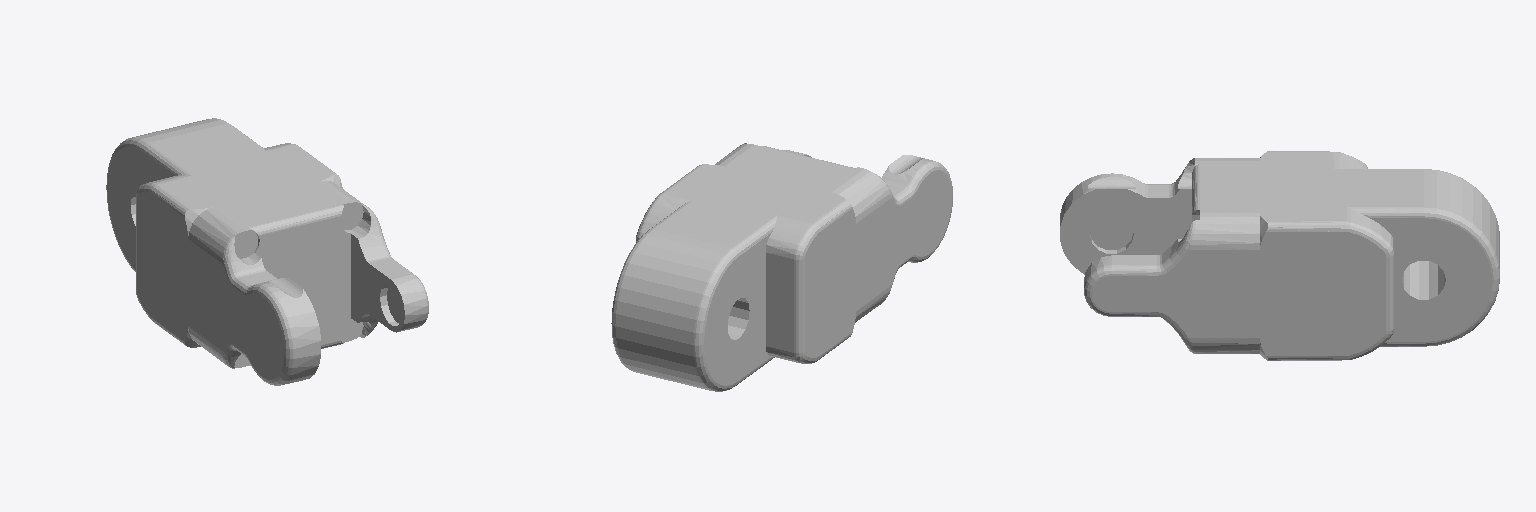
File: tesollo_left_ll_dg_1_3_visuals_ll_dg_1_3_mesh.obj
3 views of the same model, side by side, from view 1: azimuth 30°, elevation 25°; view 2: azimuth 150°, elevation 25°; view 3: azimuth 270°, elevation 25° (orthographic).
Bounding box in the file's own units: 0.0224 × 0.019 × 0.0548.